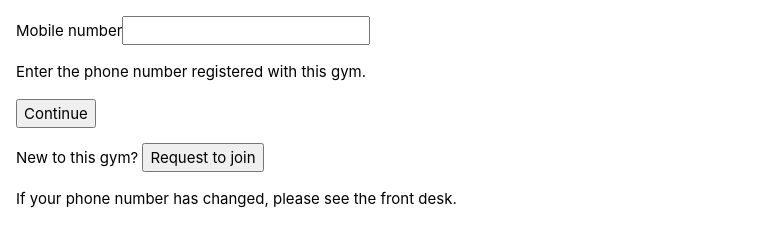
SignInForm — join entry point › choosing it only switches intent copy — the phone step and its form are unchanged
The image size is (773, 225).
What coordinates should you click on to do the following:
click the button "Request to join"
I would click on:
 (203, 157)
Its box is [142, 143, 264, 172].
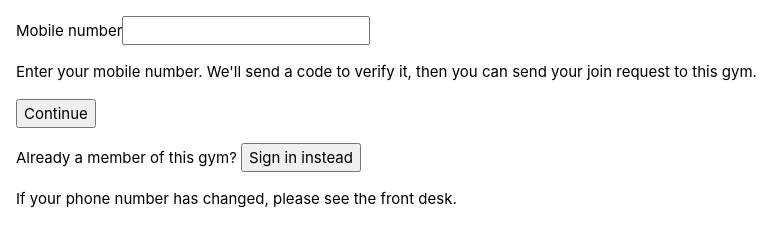
Expected: the field labelled "Mobile number" is shown, [122, 16, 370, 45]
Result: the text "send your join request to this gym" is shown at [16, 62, 757, 81]
What coordinates should you click on to do the following:
click the button "Sign in instead"
I would click on:
 (301, 157)
Its box is [241, 143, 361, 172].
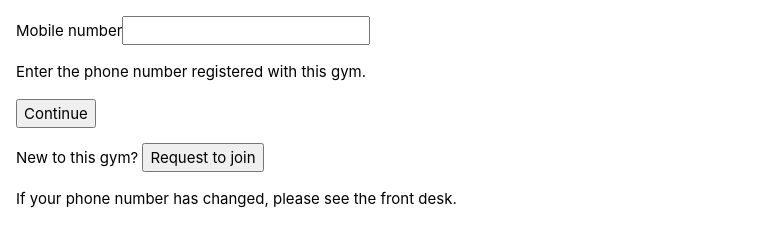
Expected: the button "Request to join" is shown, [142, 143, 264, 172]
Result: the text "Enter the phone number registered with this gym." is shown at [16, 62, 366, 81]
